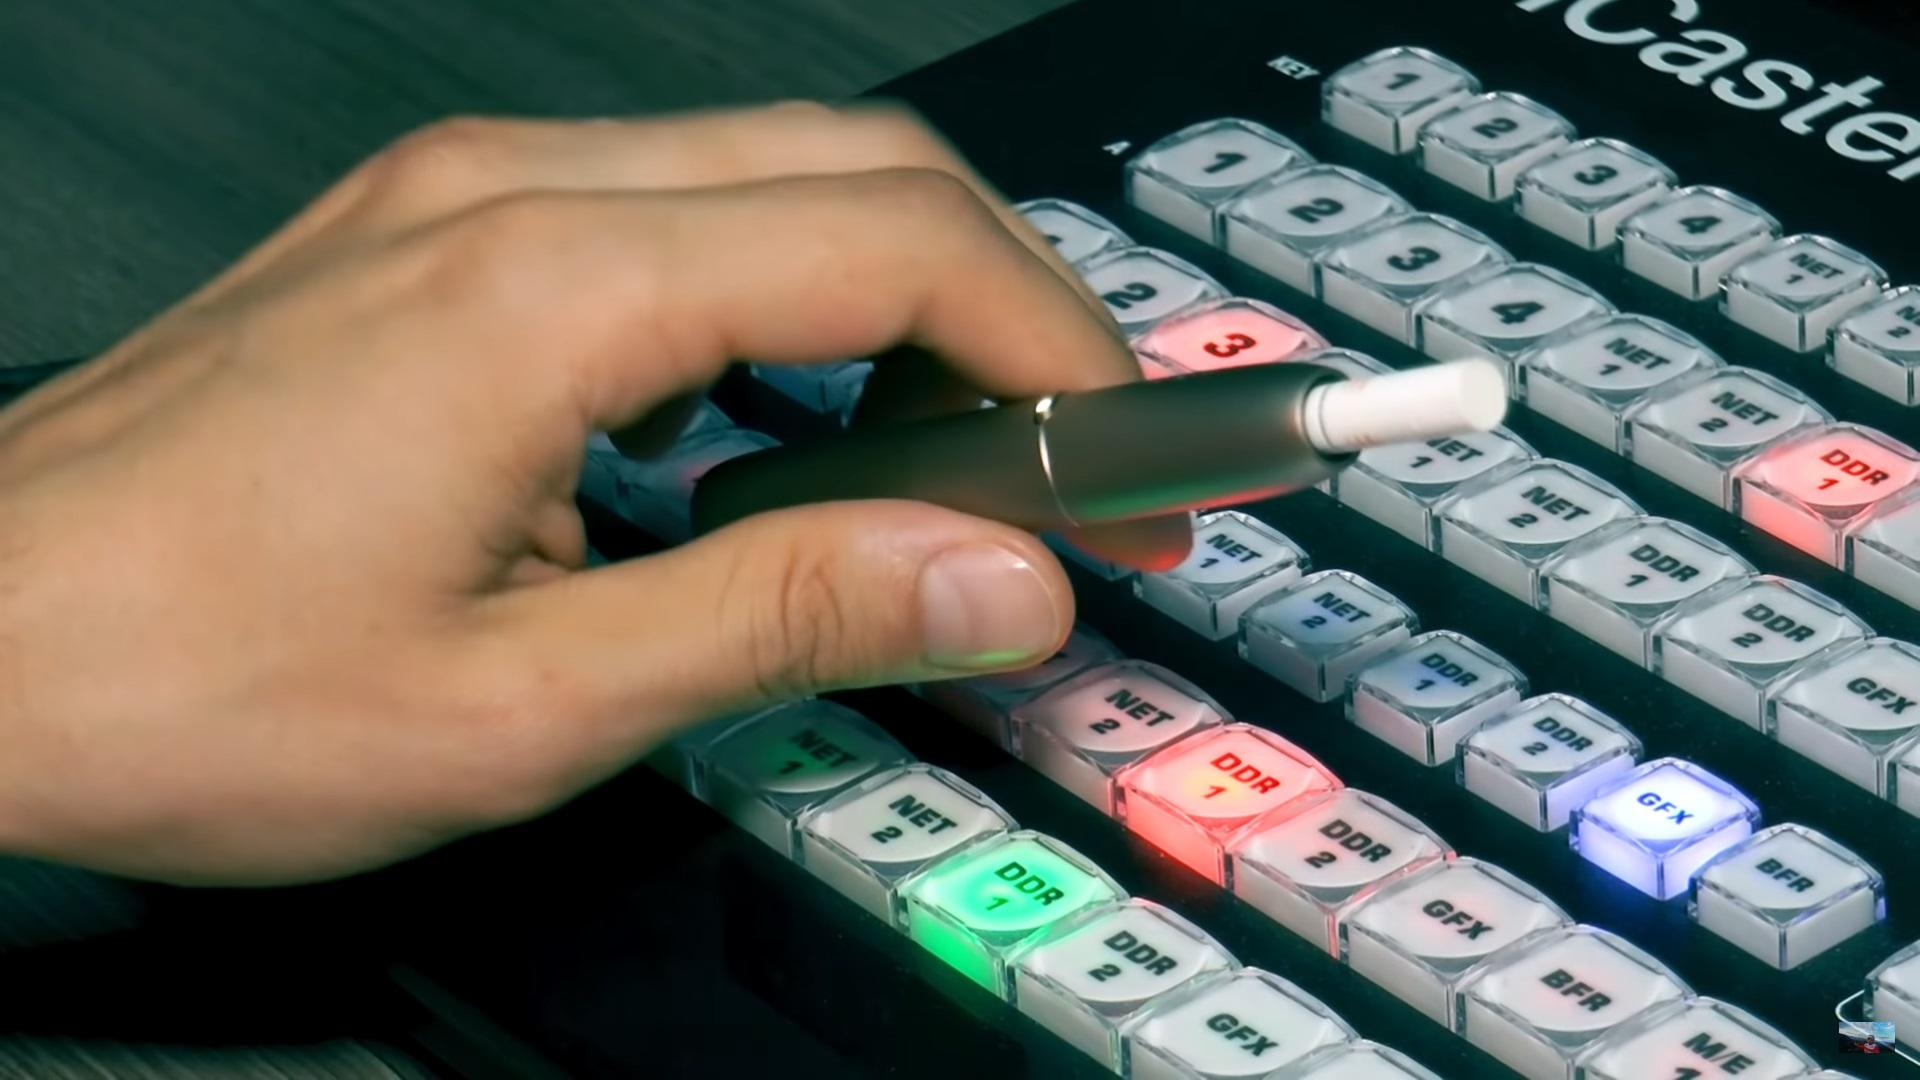iqos: (688, 356, 1510, 539)
